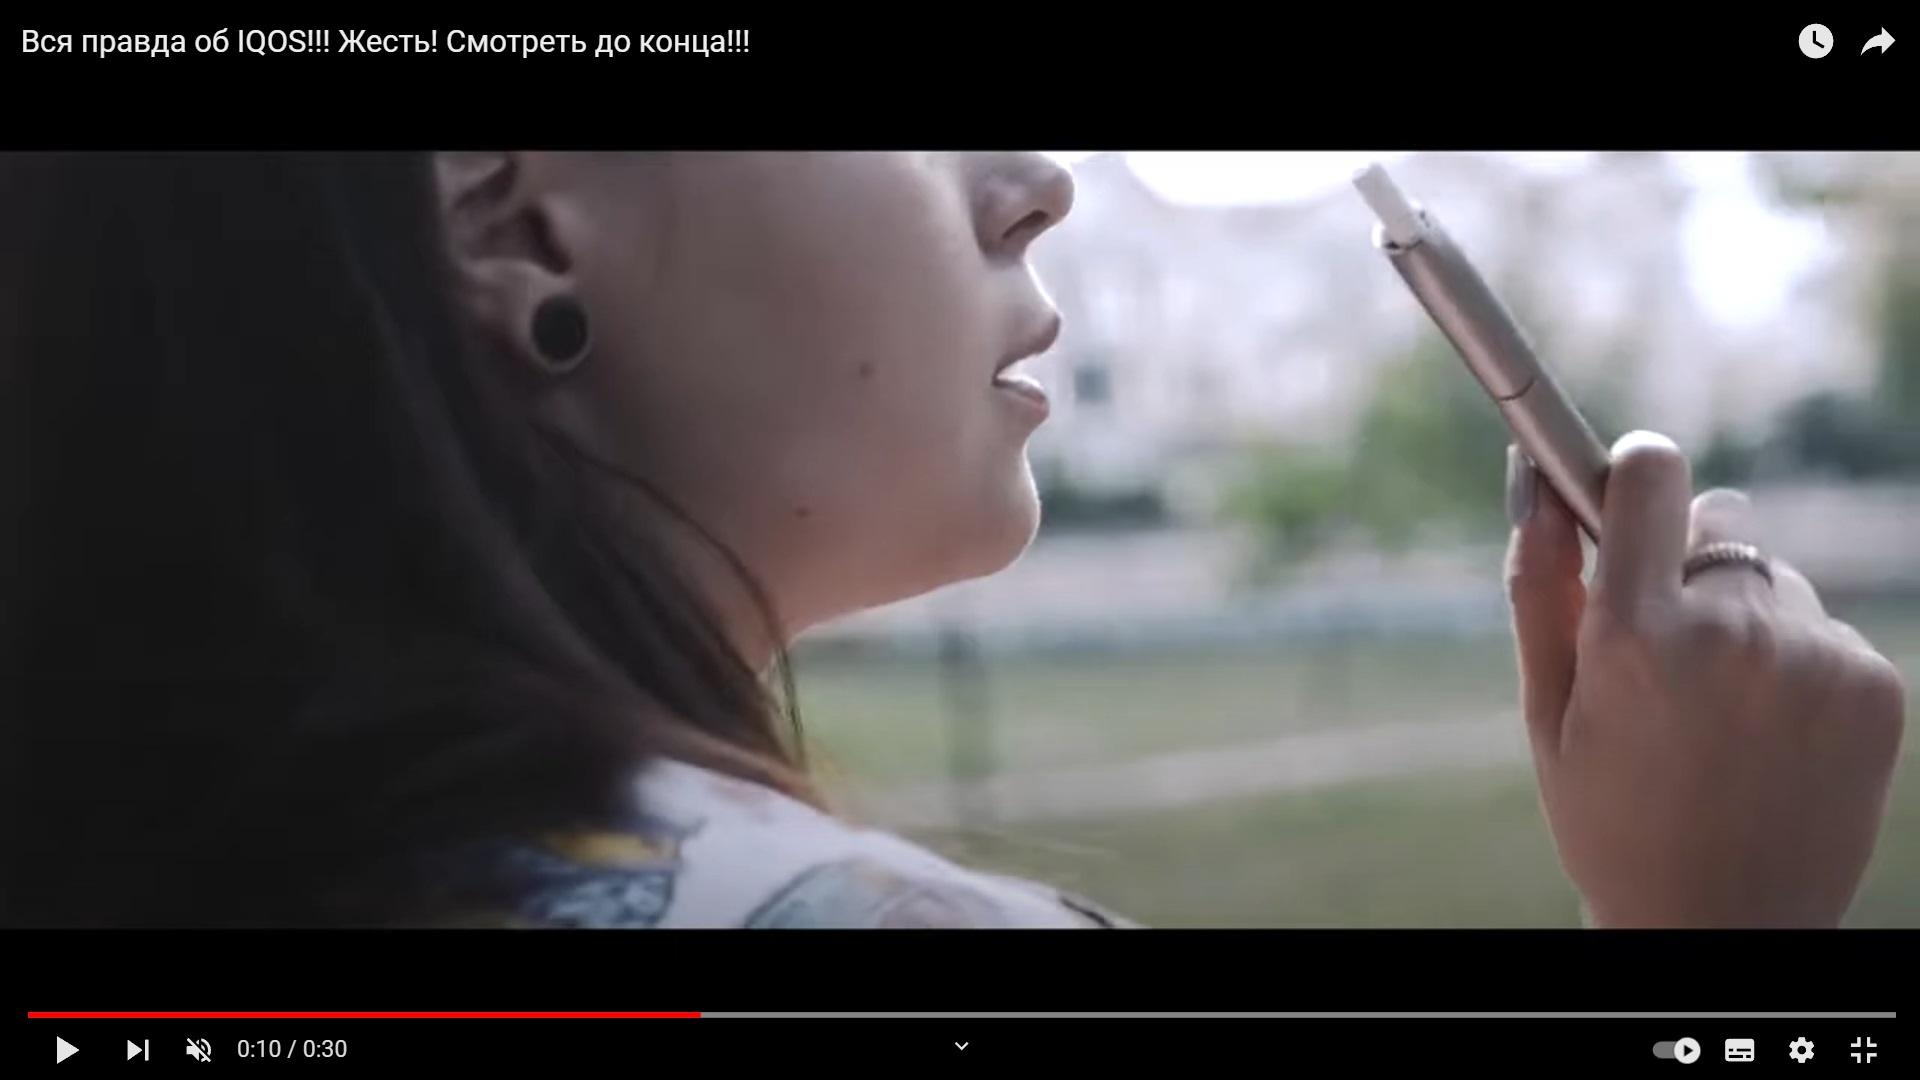iqos: (1353, 164, 1607, 539)
